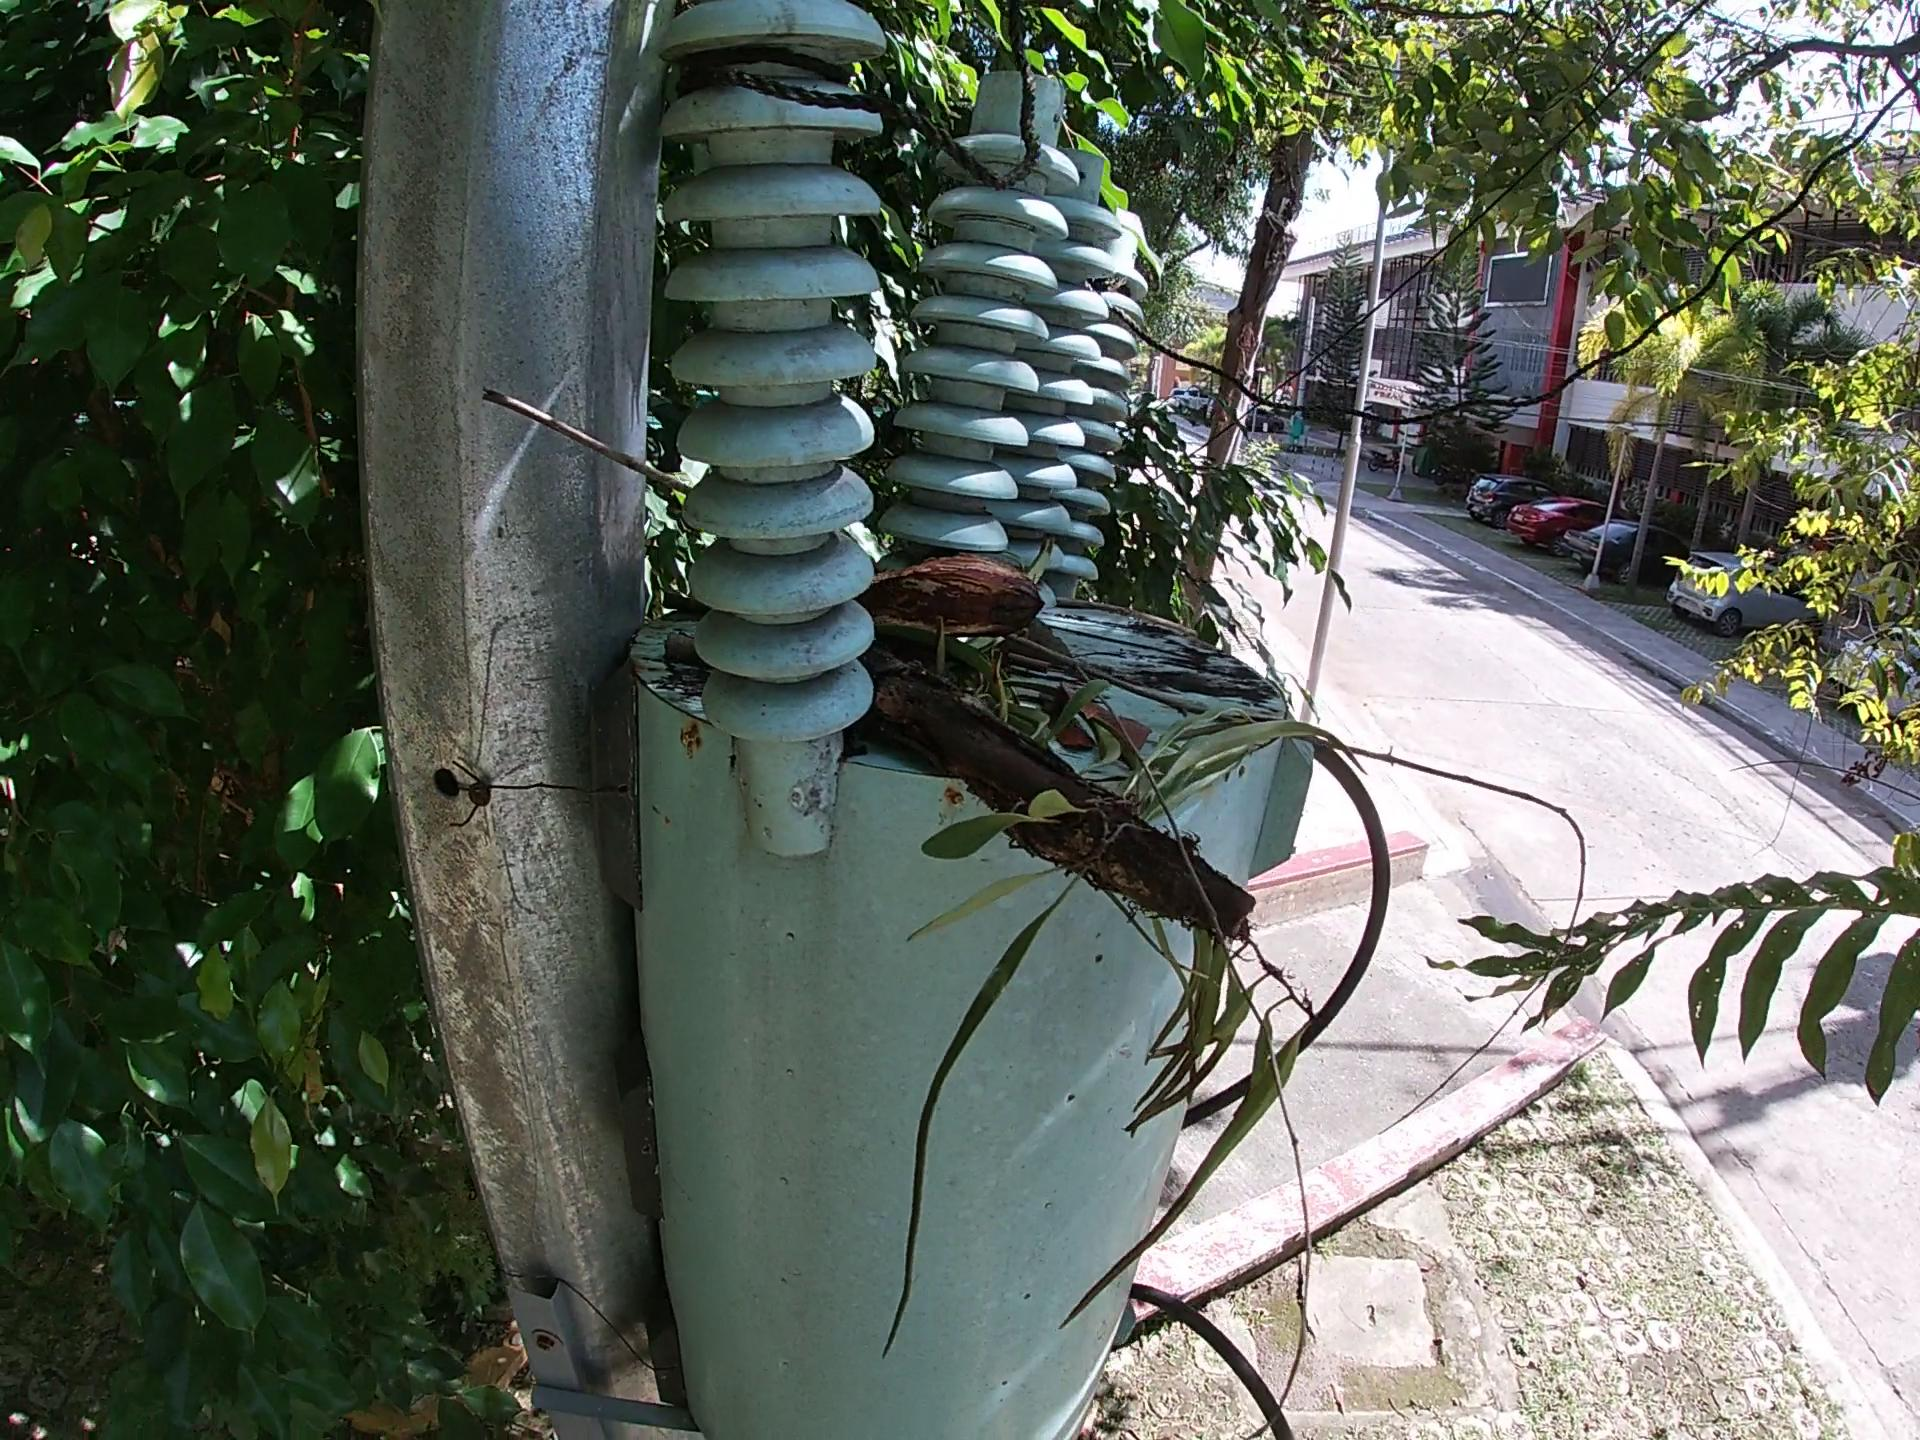branch with leaves: (810, 522, 1435, 1066)
leaf: (1028, 663, 1297, 793)
mahogany fruit: (813, 532, 924, 682)
tree branch: (469, 384, 1528, 883), (930, 582, 1134, 693), (1054, 576, 1217, 640)
